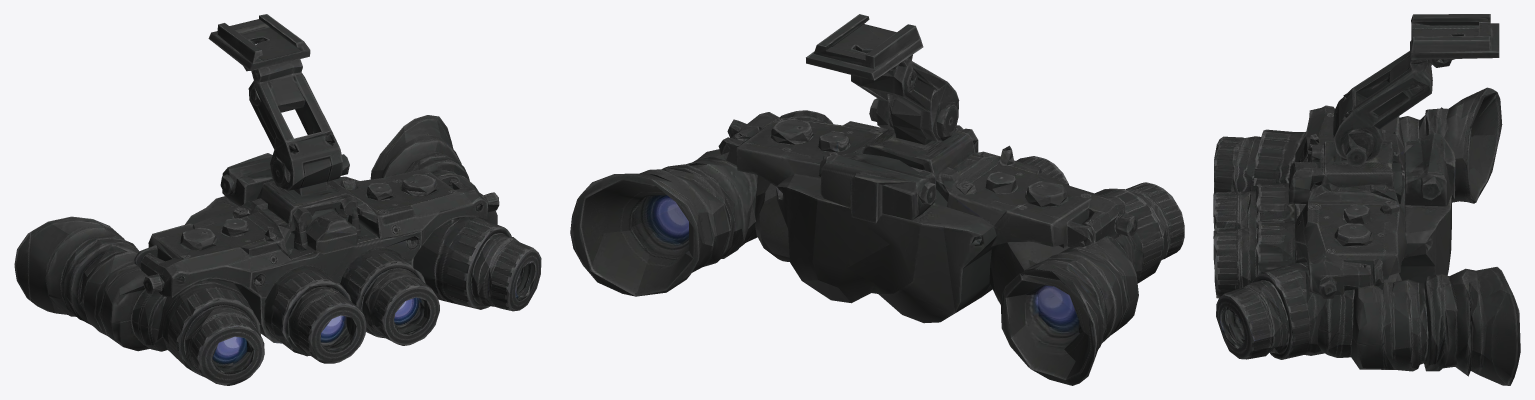
The model's file is nvg.glb.
The picture shows the model from 3 angles, left to right: view 1: azimuth 30°, elevation 25°; view 2: azimuth 150°, elevation 25°; view 3: azimuth 270°, elevation 25°; orthographic projection. The views are drawn at different scales.
Visible parts, largest first — view 1: nvg; view 2: nvg; view 3: nvg.
Part boxes in pixels (x1=…): nvg: x1=14, y1=14, x2=541, y2=385; nvg: x1=570, y1=14, x2=1184, y2=385; nvg: x1=1213, y1=14, x2=1520, y2=385.
Bounding box in the file's own units: 0.175 × 0.0946 × 0.0999.
1 material, 1 textured.
